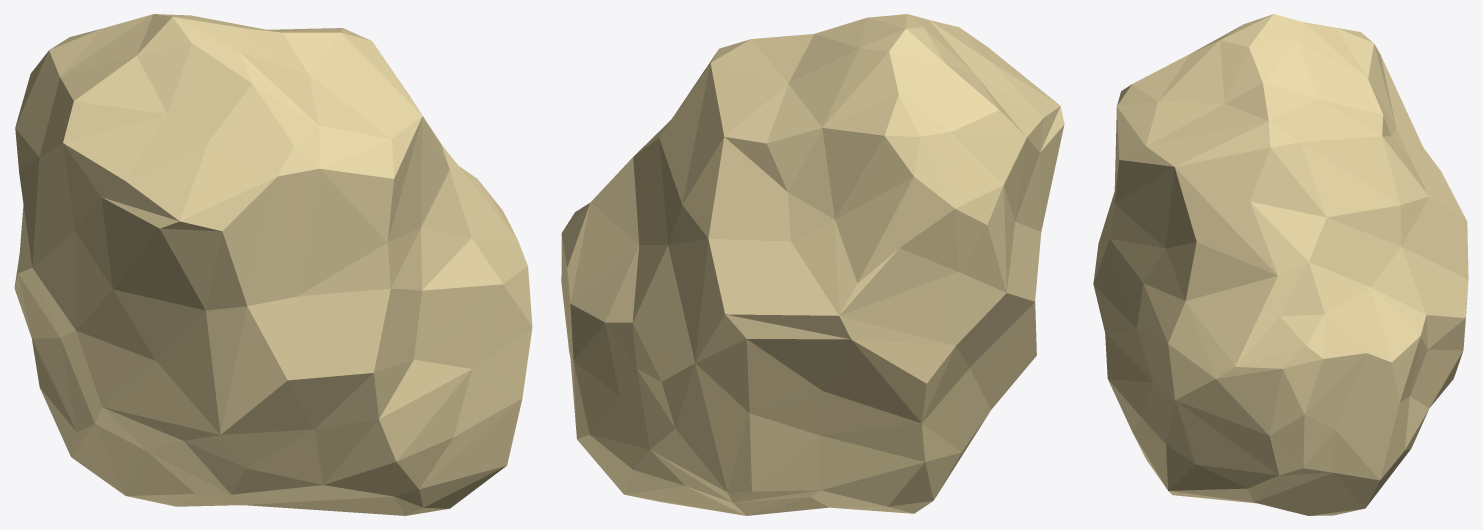
File: Asteroid (125).fbx
3 views of the same model, side by side, from view 1: azimuth 30°, elevation 25°; view 2: azimuth 150°, elevation 25°; view 3: azimuth 270°, elevation 25° (orthographic). The views are drawn at different scales.
Parts seen in each view (by area): view 1: Asteroid115; view 2: Asteroid115; view 3: Asteroid115.
Part boxes in pixels (<box>): Asteroid115: <box>14,14,532,515</box>; Asteroid115: <box>561,14,1064,515</box>; Asteroid115: <box>1093,14,1468,515</box>.
Size of the model in its own units: 193 by 207 by 169.
